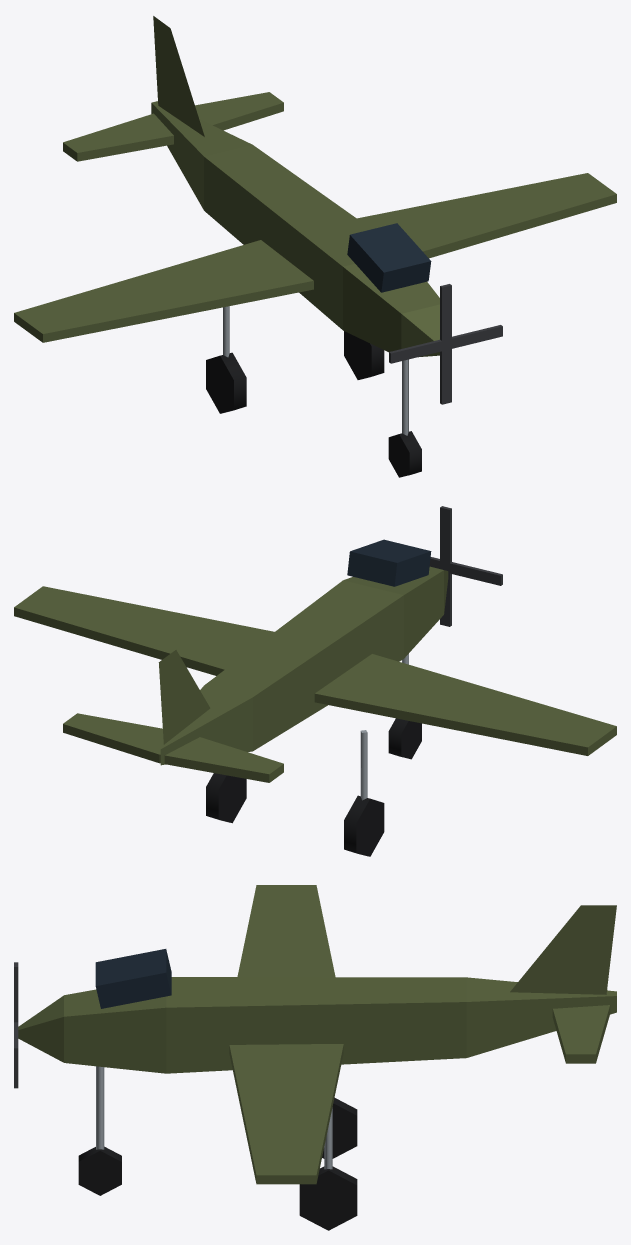
The model's file is veh_air_fighter_a06_lod2.glb.
The picture shows the model from 3 angles, top to bottom: view 1: azimuth 30°, elevation 25°; view 2: azimuth 150°, elevation 25°; view 3: azimuth 270°, elevation 25°; orthographic projection. The views are drawn at different scales.
Parts seen in each view (by area): view 1: body, propeller_0, gear_1, gear_0, gear_2; view 2: body, gear_1, propeller_0, gear_2, gear_0; view 3: body, gear_2, gear_0, gear_1, propeller_0.
Part boxes in pixels (<box>): body: <box>14,16,616,357</box>; propeller_0: <box>389,284,502,404</box>; gear_1: <box>206,306,246,413</box>; gear_0: <box>388,359,421,477</box>; gear_2: <box>344,331,384,379</box>; body: <box>14,539,616,782</box>; gear_1: <box>344,730,384,856</box>; propeller_0: <box>429,506,502,626</box>; gear_2: <box>206,773,246,823</box>; gear_0: <box>388,654,421,759</box>; body: <box>18,885,616,1184</box>; gear_2: <box>299,1107,357,1230</box>; gear_0: <box>78,1066,121,1195</box>; gear_1: <box>322,1097,357,1158</box>; propeller_0: <box>14,962,18,1088</box>.
Size of the model in its own units: 8.24 by 3.82 by 7.24.
